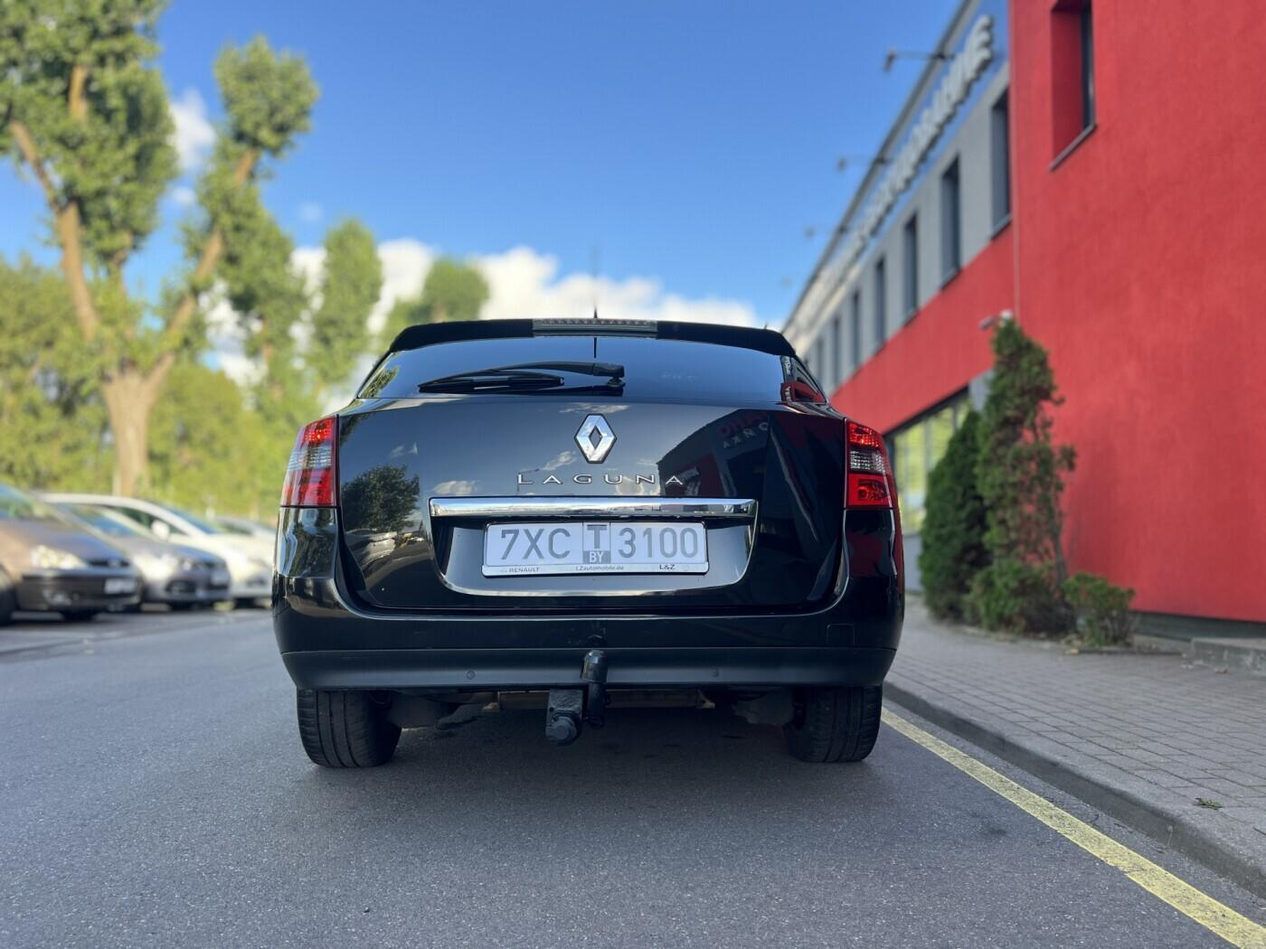Laguna_2010-2015: (276, 300, 909, 772)
